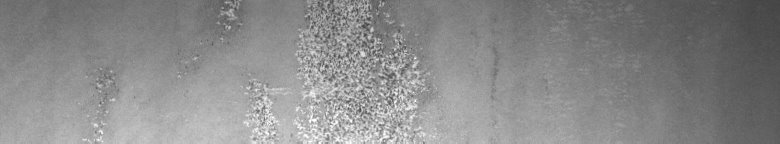hc: (221, 4, 422, 136)
